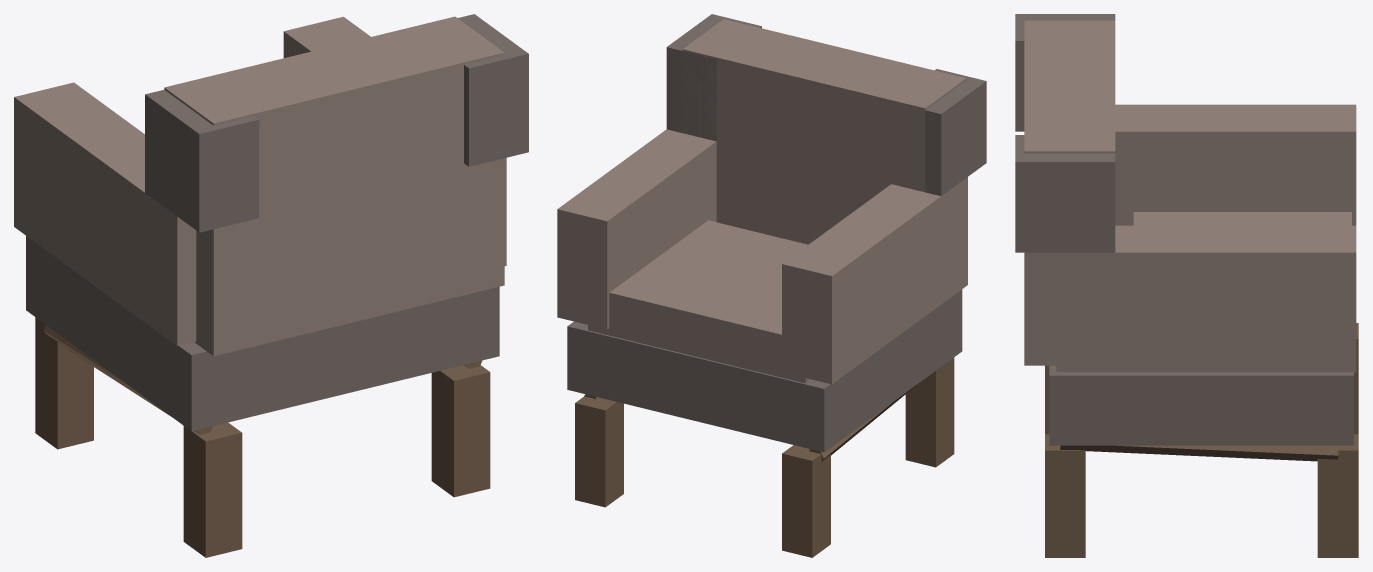
Rendered from sessel_polster_1930.glb.
3 renders of one model, left to right at view 1: azimuth 30°, elevation 25°; view 2: azimuth 150°, elevation 25°; view 3: azimuth 270°, elevation 25°, orthographic. The views are drawn at different scales.
Visible parts, largest first — view 1: sessel_polster_1930_n1; view 2: sessel_polster_1930_n1; view 3: sessel_polster_1930_n1.
Boxes of the visible parts, bbox=[...] form: sessel_polster_1930_n1: bbox=[14, 14, 528, 557]; sessel_polster_1930_n1: bbox=[557, 14, 986, 557]; sessel_polster_1930_n1: bbox=[1015, 14, 1358, 557].
Size of the model in its own units: 0.77 by 0.99 by 0.755.
